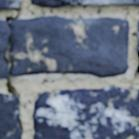brick: (32, 87, 138, 138), (0, 93, 20, 138), (83, 0, 138, 6), (31, 0, 61, 7), (0, 0, 18, 8)
broken_brick: (12, 15, 129, 77), (0, 19, 9, 78)
crack: (2, 2, 25, 136), (51, 0, 82, 5)
